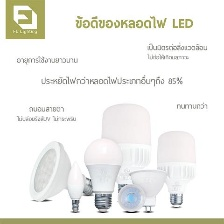light_bulb: (99, 100, 154, 193), (26, 139, 97, 204), (154, 126, 198, 210), (83, 135, 123, 214), (127, 165, 167, 213), (63, 159, 85, 215), (114, 182, 146, 216)
